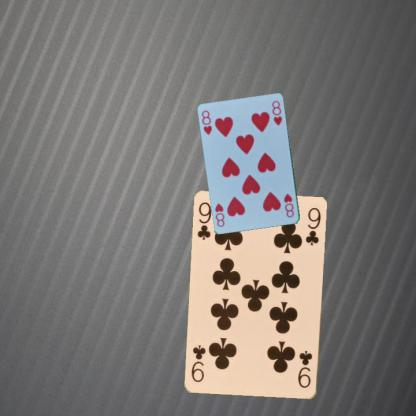8h: (282, 191, 296, 219), (200, 108, 214, 136)
9c: (296, 348, 314, 389), (195, 200, 213, 241)
